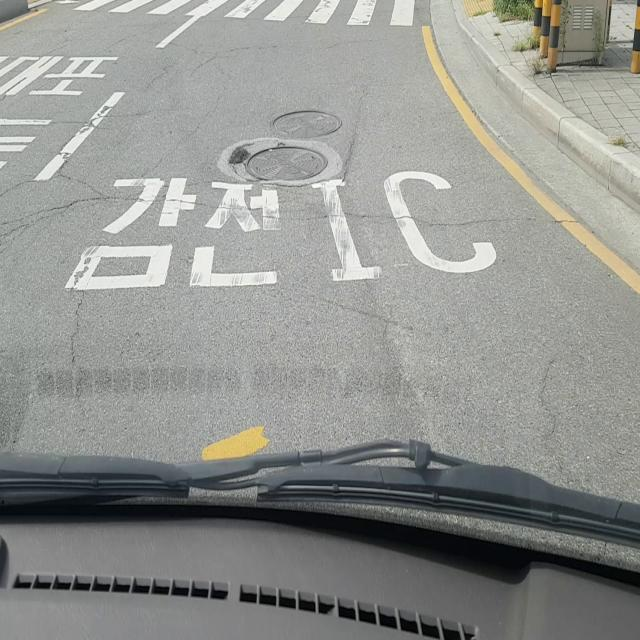Pothole: (225, 140, 331, 187)
